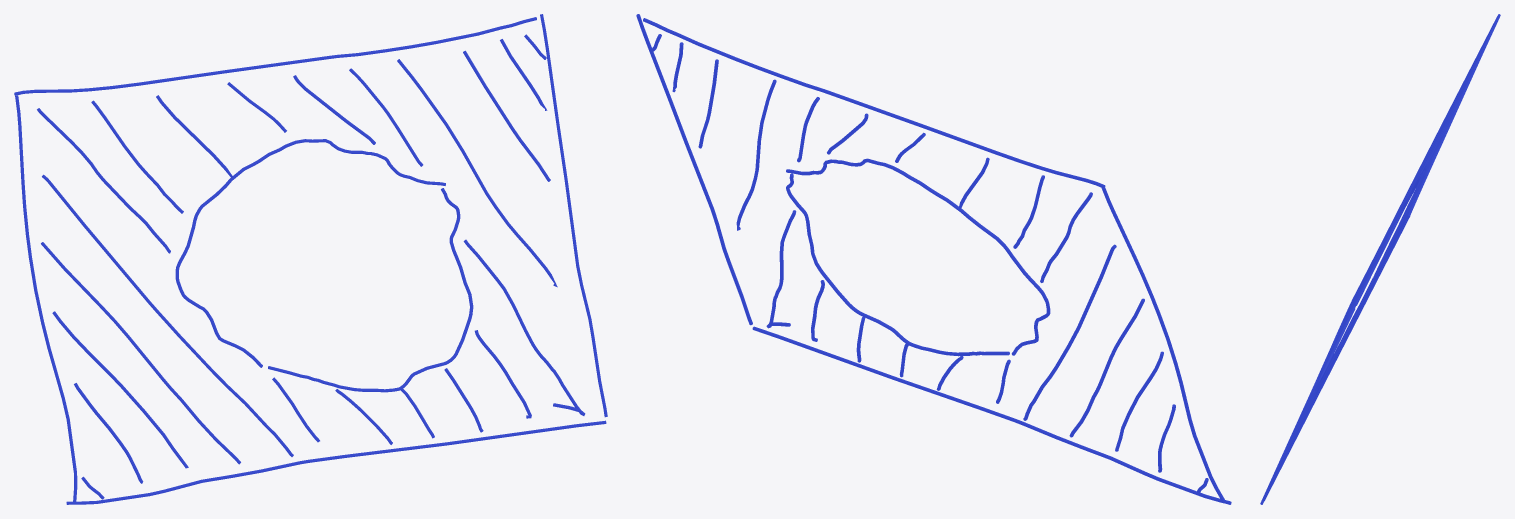
The model's file is fracture.glb.
The picture shows the model from 3 angles, left to right: view 1: azimuth 30°, elevation 25°; view 2: azimuth 150°, elevation 25°; view 3: azimuth 270°, elevation 25°; orthographic projection. The views are drawn at different scales.
Visible parts, largest first — view 1: Stroke; view 2: Stroke; view 3: Stroke.
Part boxes in pixels (x1,y1,x2,y2): Stroke: [14, 14, 607, 504]; Stroke: [636, 14, 1231, 504]; Stroke: [1260, 14, 1500, 504].
Size of the model in its own units: 0.1211 by 0.0792 by 0.0571.
